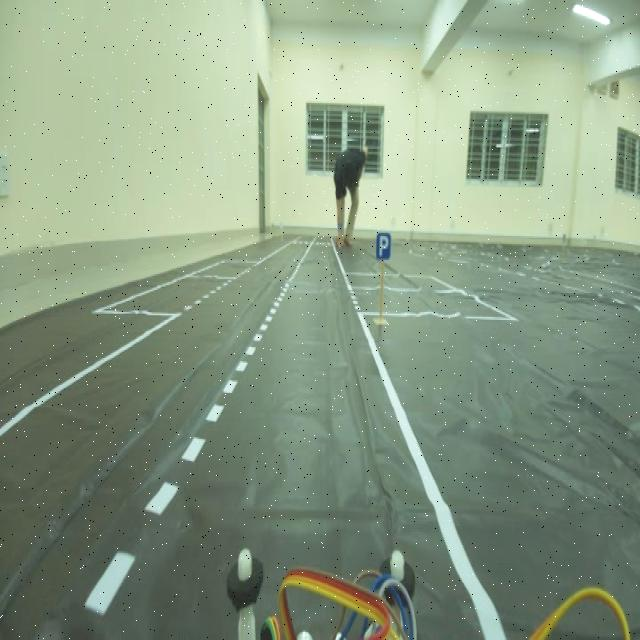parking: (375, 227, 393, 270)
